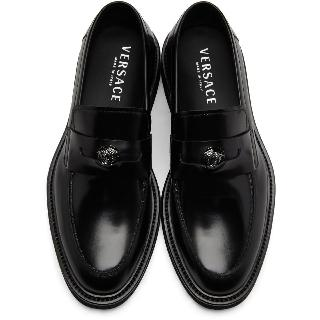loafers: (38, 0, 282, 314)
